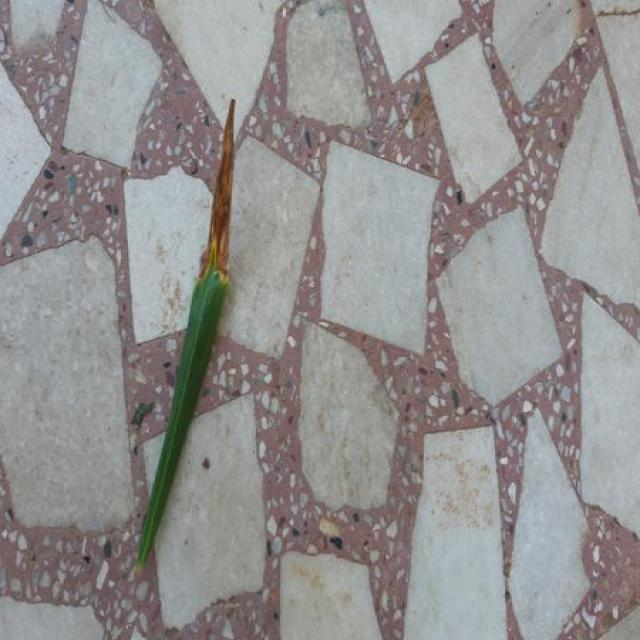bacterial wilt: (200, 100, 234, 278)
ginger: (137, 100, 234, 567)
